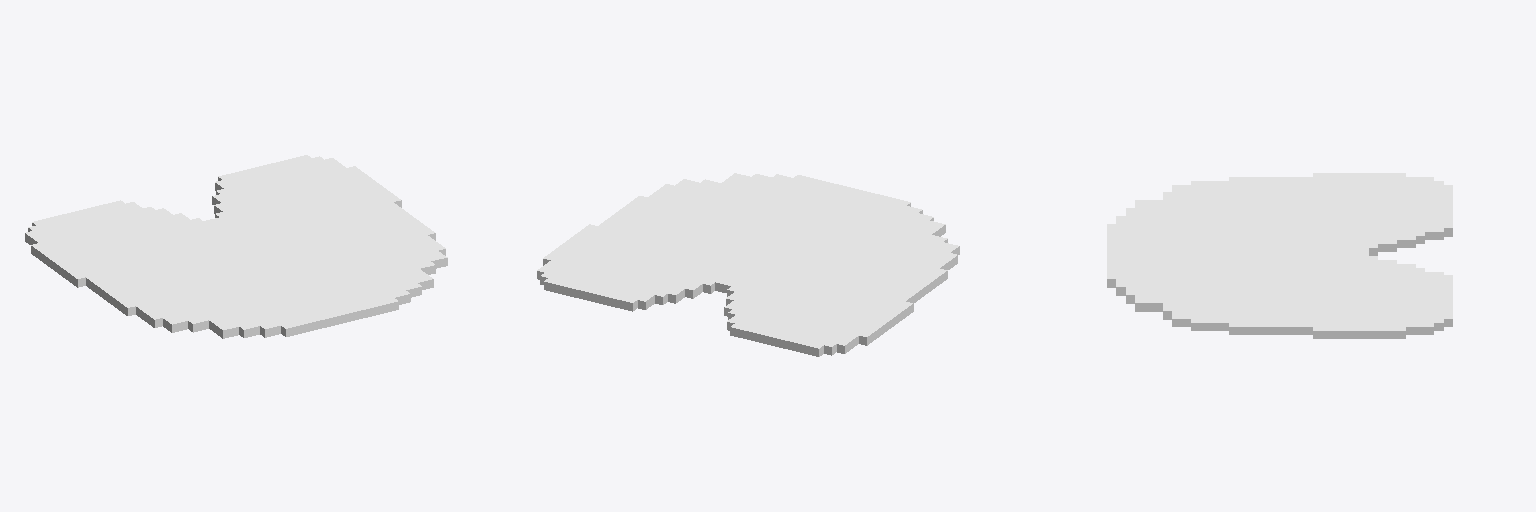
File: Lilly.obj
The picture shows the model from 3 angles: view 1: azimuth 30°, elevation 25°; view 2: azimuth 150°, elevation 25°; view 3: azimuth 270°, elevation 25°; orthographic projection.
Visible parts, largest first — view 1: object 1; view 2: object 1; view 3: object 1.
Boxes of the visible parts, box(x1,y1,x2,y2) form: object 1: box(25, 155, 447, 338); object 1: box(537, 173, 959, 356); object 1: box(1107, 173, 1452, 338).
Size of the model in its own units: 4 by 0.1 by 3.7.